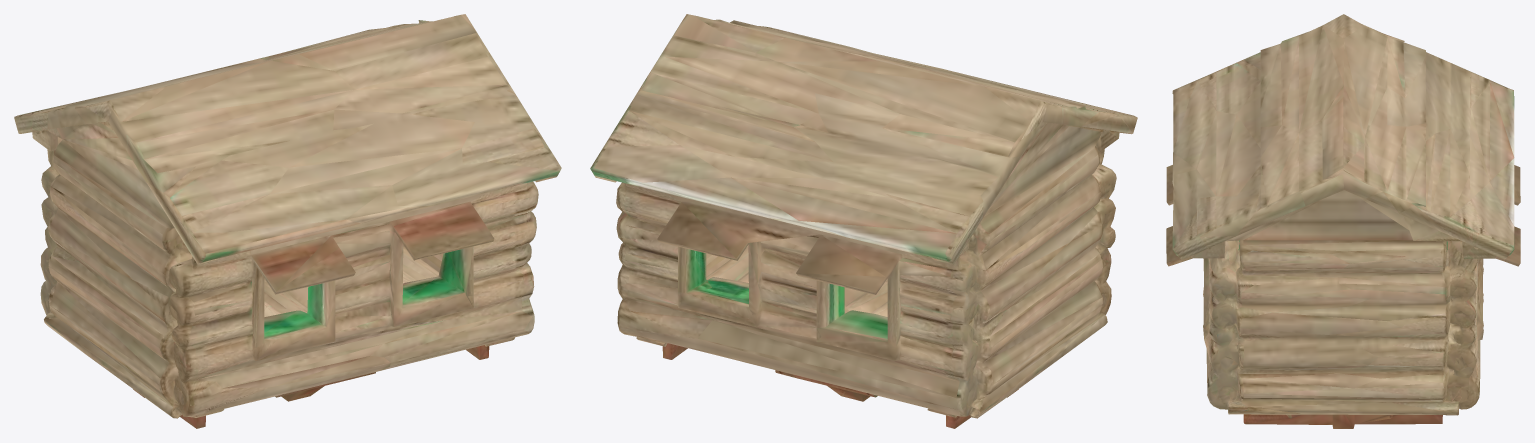
File: prop-bird-hide.glb
3 views of the same model, side by side, from view 1: azimuth 30°, elevation 25°; view 2: azimuth 150°, elevation 25°; view 3: azimuth 270°, elevation 25° (orthographic). The views are drawn at different scales.
Bounding box in the file's own units: 1.91 × 1.66 × 1.77.
1 material, 1 textured.
